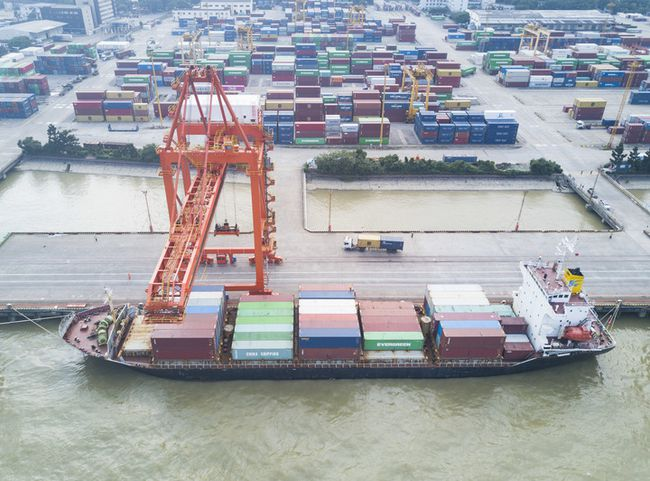Cargoship: (49, 242, 630, 377)
